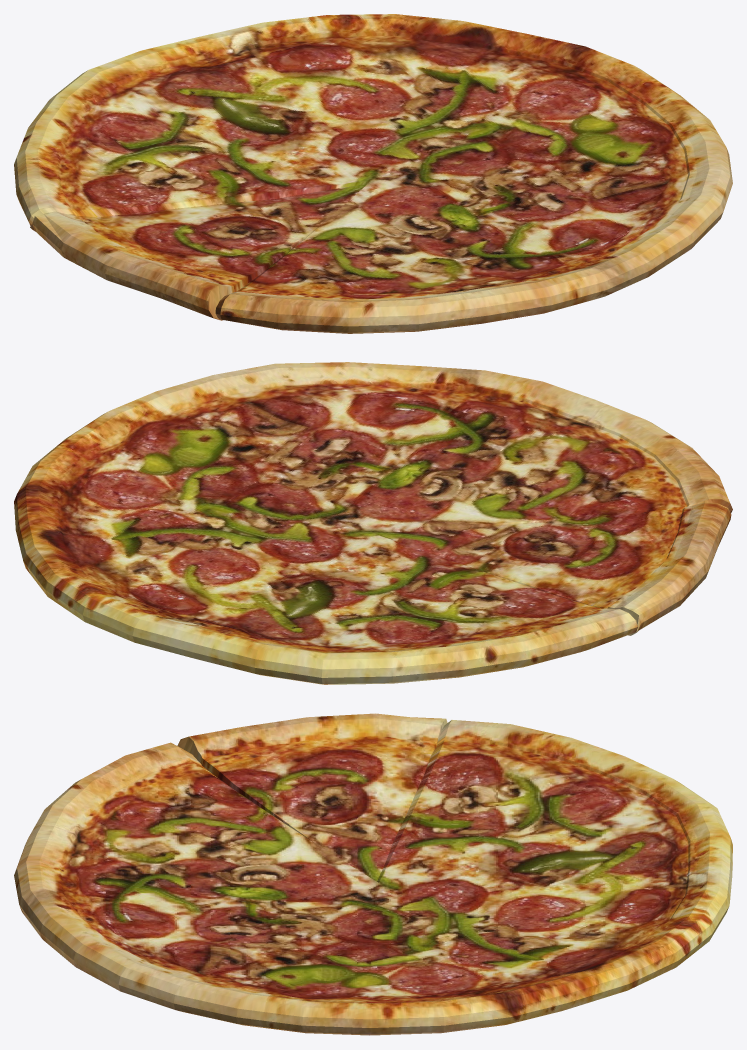
The model's file is AQBI7TSNGNM542Y5OJBXHQ9FC.obj.
The picture shows the model from 3 angles, top to bottom: view 1: azimuth 30°, elevation 25°; view 2: azimuth 150°, elevation 25°; view 3: azimuth 270°, elevation 25°; orthographic projection.
Parts seen in each view (by area): view 1: Object_Model001_Material003, Object_Model001_Material004; view 2: Object_Model001_Material003, Object_Model001_Material004; view 3: Object_Model001_Material003, Object_Model001_Material004.
Part boxes in pixels (x1,y1,x2,y2): Object_Model001_Material003: [14, 14, 732, 333]; Object_Model001_Material004: [32, 184, 366, 318]; Object_Model001_Material003: [14, 362, 732, 684]; Object_Model001_Material004: [373, 502, 731, 630]; Object_Model001_Material003: [14, 719, 732, 1035]; Object_Model001_Material004: [189, 713, 445, 881].
Bounding box in the file's own units: 2.5 × 0.1285 × 2.49.
4 materials, 4 textured.
